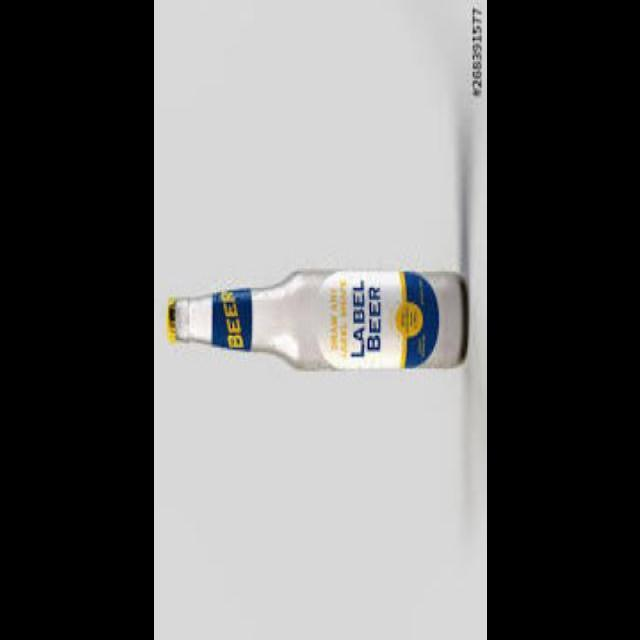Glass: (164, 263, 472, 374)
